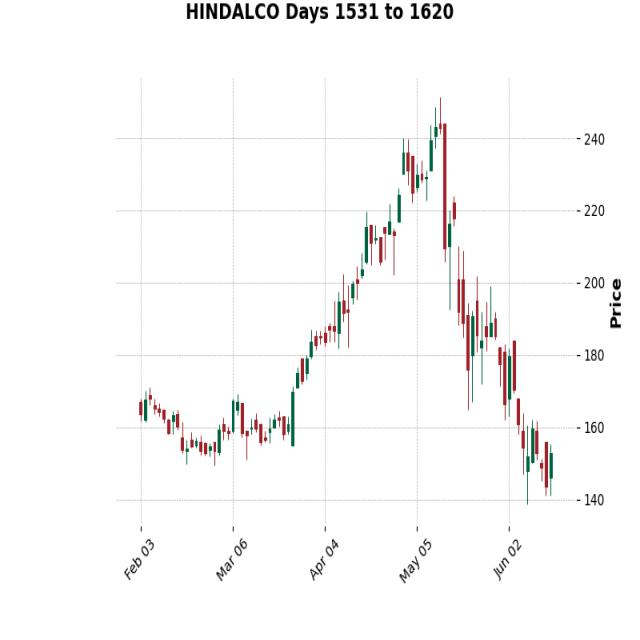Head and Shoulder: (339, 49, 483, 316)
